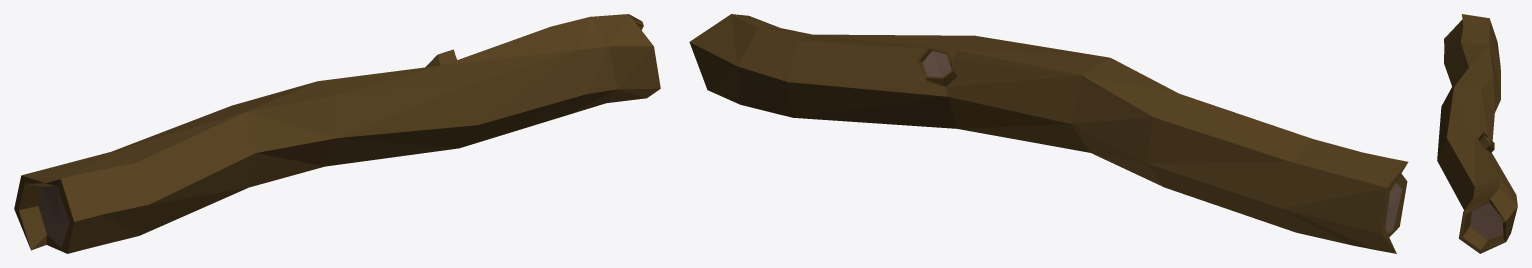
File: SM_Treetrunk_01.fbx
3 views of the same model, side by side, from view 1: azimuth 30°, elevation 25°; view 2: azimuth 150°, elevation 25°; view 3: azimuth 270°, elevation 25° (orthographic). The views are drawn at different scales.
Parts seen in each view (by area): view 1: SM_Treetrunk_01; view 2: SM_Treetrunk_01; view 3: SM_Treetrunk_01.
Boxes of the visible parts, box(x1,y1,x2,y2) form: SM_Treetrunk_01: box(14, 14, 660, 253); SM_Treetrunk_01: box(689, 14, 1408, 253); SM_Treetrunk_01: box(1437, 14, 1517, 253).
Bounding box in the file's own units: 1155 × 173 × 200.
